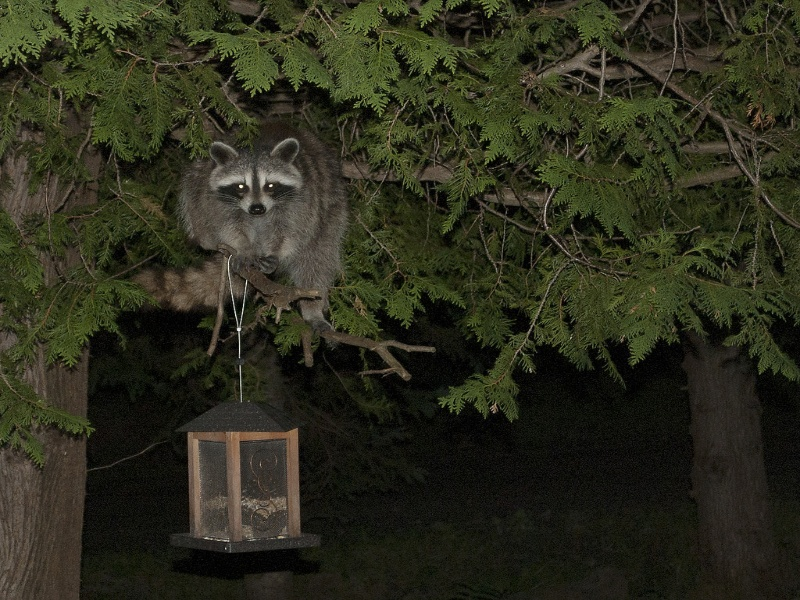raccoon: (115, 114, 352, 331)
